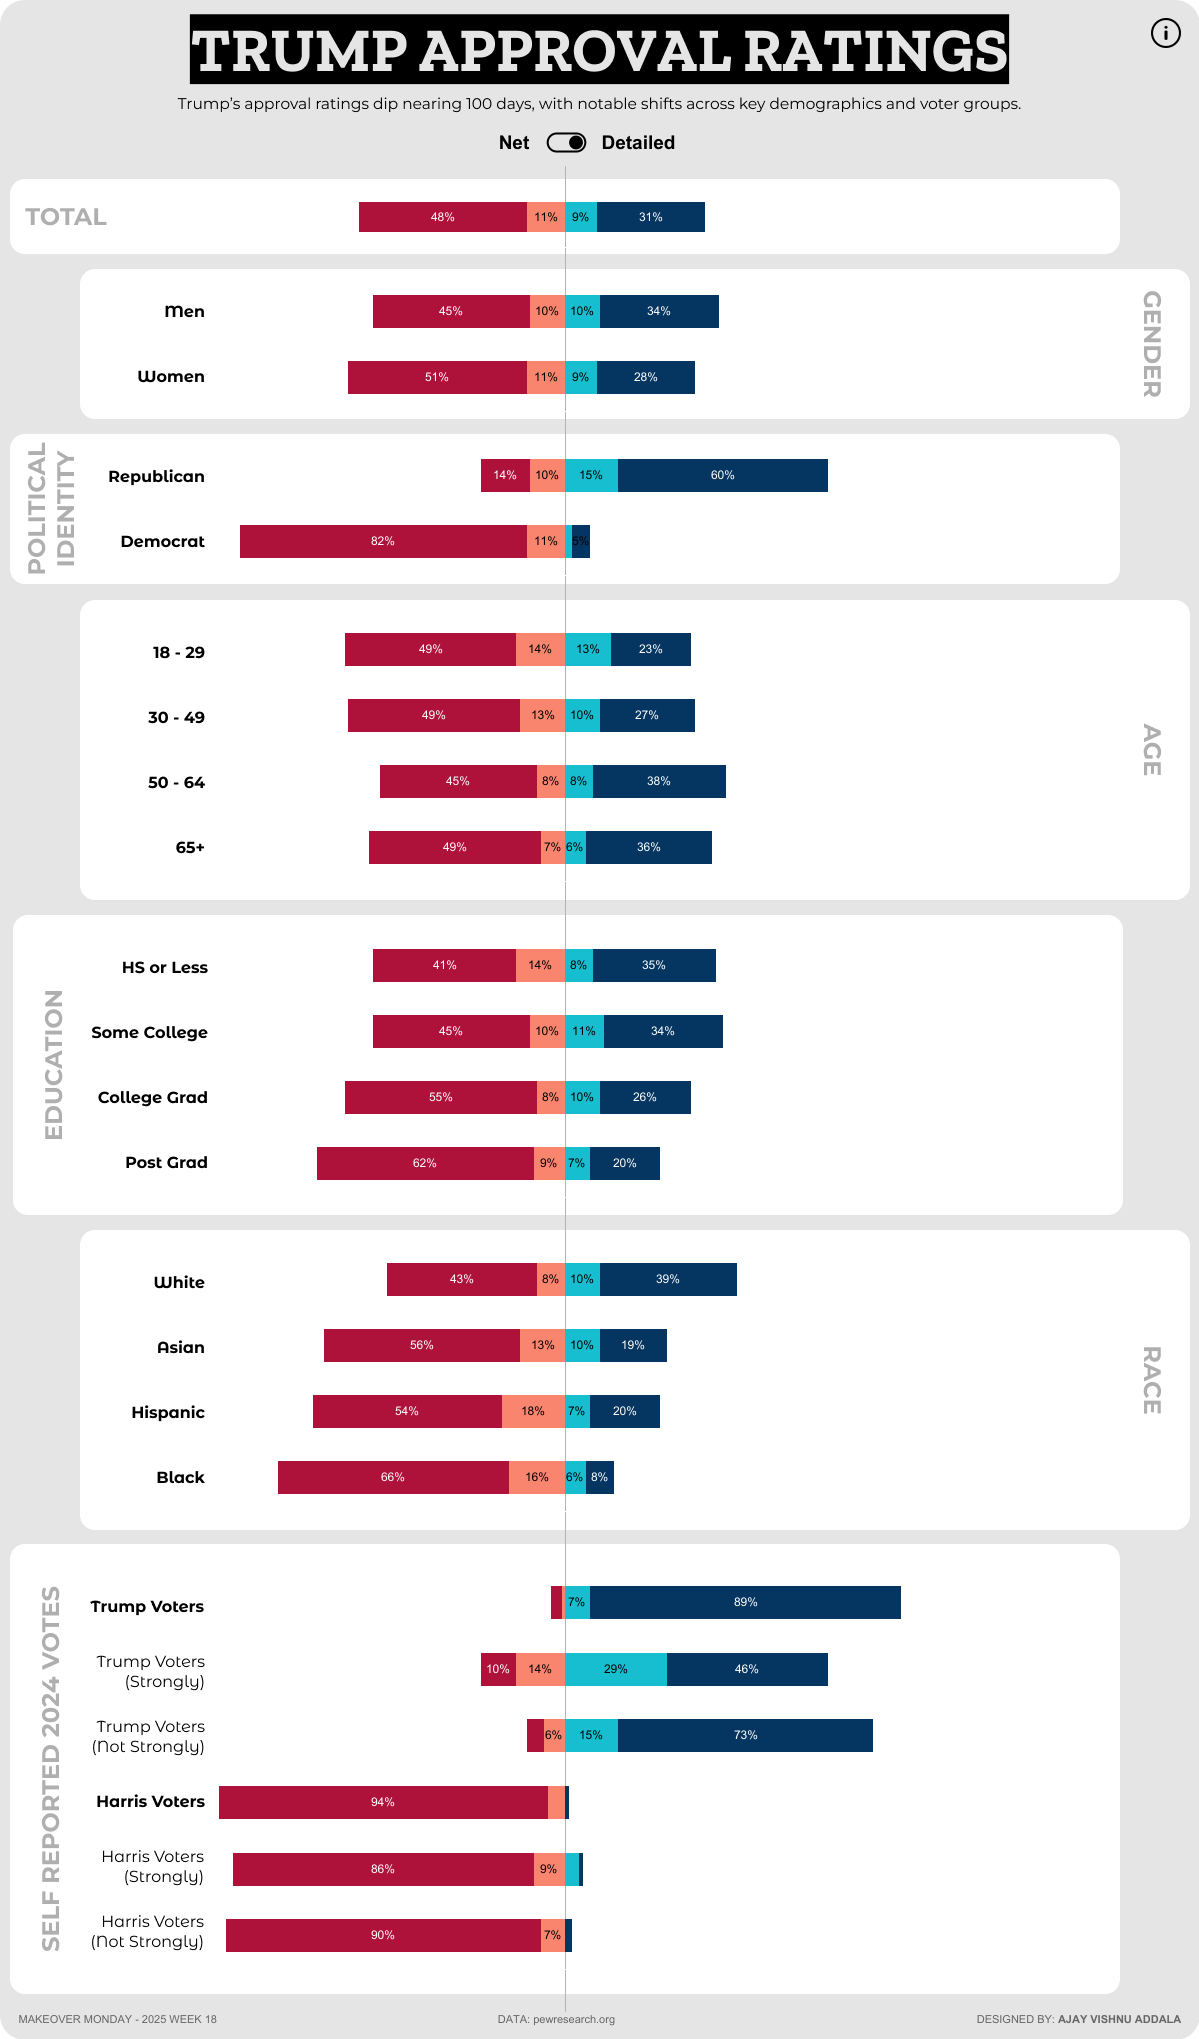

This screenshot's page, from the dashboard's own definition file:
{"tool":"tableau","page":{"name":"MOM2025 W18","canvas":[1200,2040],"ordinal":0},"visuals":[{"type":"image","param":"Image/Trump Approvals (3).png","box":[0,0,1200,2040]},{"type":"worksheet","title":"Info","mark":"Shape","box":[1141,8,50,50]},{"type":"blank","box":[215,121,146,43]},{"type":"text","box":[361,121,176,43]},{"type":"worksheet","title":"Toggle","mark":"Shape","box":[537,121,58,43]},{"type":"text","box":[595,121,174,43]},{"type":"blank","box":[769,121,146,43]},{"type":"worksheet","title":"Total","mark":"Bar","rows":["Demographic"],"cols":["Calculation_1107604038229557249"],"box":[215,187,700,60]},{"type":"worksheet","title":"Gender","mark":"Bar","rows":["Demographic"],"cols":["Calculation_1107604038229557249"],"box":[215,278,700,133]},{"type":"worksheet","title":"Political Aff","mark":"Bar","rows":["Demographic"],"cols":["Calculation_1107604038229557249"],"box":[215,442,700,133]},{"type":"worksheet","title":"Age","mark":"Bar","rows":["Demographic"],"cols":["Calculation_1107604038229557249"],"box":[215,616,700,265]},{"type":"worksheet","title":"Education","mark":"Bar","rows":["Demographic"],"cols":["Calculation_1107604038229557249"],"box":[215,932,700,265]},{"type":"worksheet","title":"Race","mark":"Bar","rows":["Demographic"],"cols":["Calculation_1107604038229557249"],"box":[215,1246,700,265]},{"type":"worksheet","title":"Support","mark":"Bar","rows":["Demographic"],"cols":["Calculation_1107604038229557249"],"box":[215,1569,700,400]},{"type":"text","box":[12,2004,350,31]},{"type":"text","box":[362,2004,389,31]},{"type":"text","box":[751,2004,437,31]}]}

Visuals, with their boxes in screenshot pixels (x1, y1, x2, y2), scaled from the page's 1200x2040 canvas onto the 1199x2039 screenshot:
image: 0:0:1198:2038
"Info" worksheet (Shape marks): 1140:8:1190:58
blank: 215:121:361:164
text: 361:121:537:164
"Toggle" worksheet (Shape marks): 537:121:595:164
text: 595:121:768:164
blank: 768:121:914:164
"Total" worksheet (Bar marks): 215:187:914:247
"Gender" worksheet (Bar marks): 215:278:914:411
"Political Aff" worksheet (Bar marks): 215:442:914:575
"Age" worksheet (Bar marks): 215:616:914:881
"Education" worksheet (Bar marks): 215:932:914:1196
"Race" worksheet (Bar marks): 215:1245:914:1510
"Support" worksheet (Bar marks): 215:1568:914:1968
text: 12:2003:362:2034
text: 362:2003:750:2034
text: 750:2003:1187:2034
